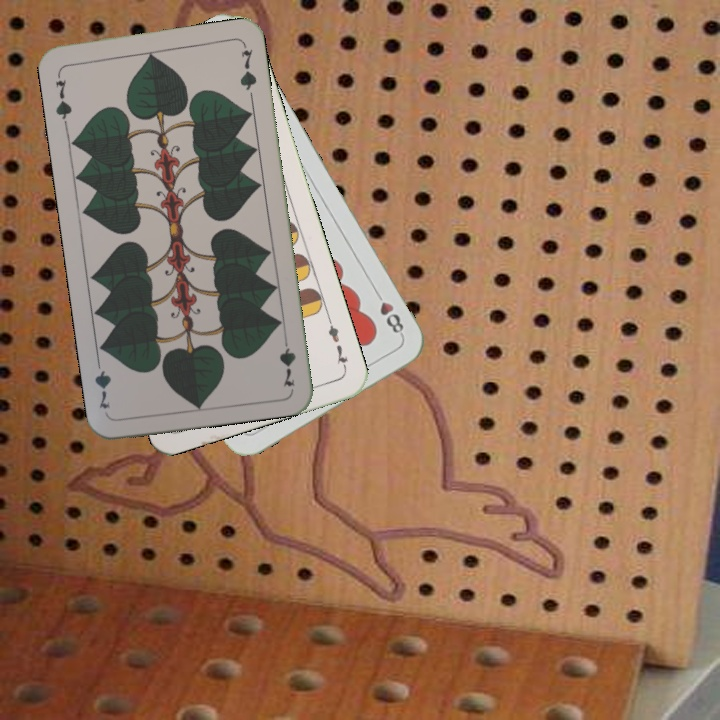E7: (324, 315, 351, 373)
G7: (275, 330, 298, 389), (51, 69, 74, 128)
H8: (370, 286, 407, 339)
